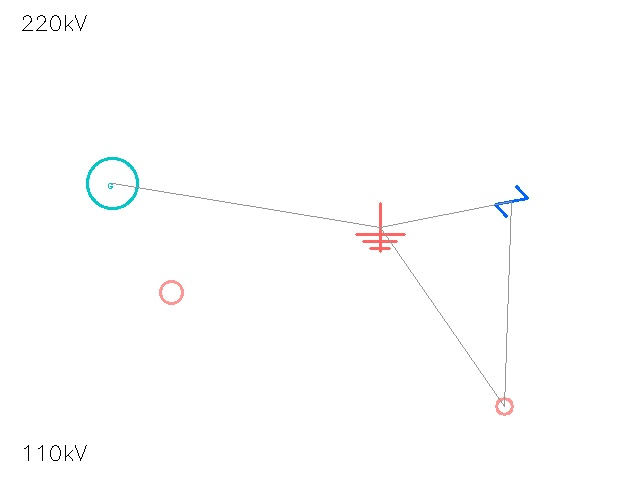circuit_breaker: (495, 185, 527, 217)
current_transformer: (487, 389, 521, 423)
disconnect_switch: (149, 270, 193, 314)
generator: (87, 158, 137, 208)
ground: (356, 203, 404, 251)
